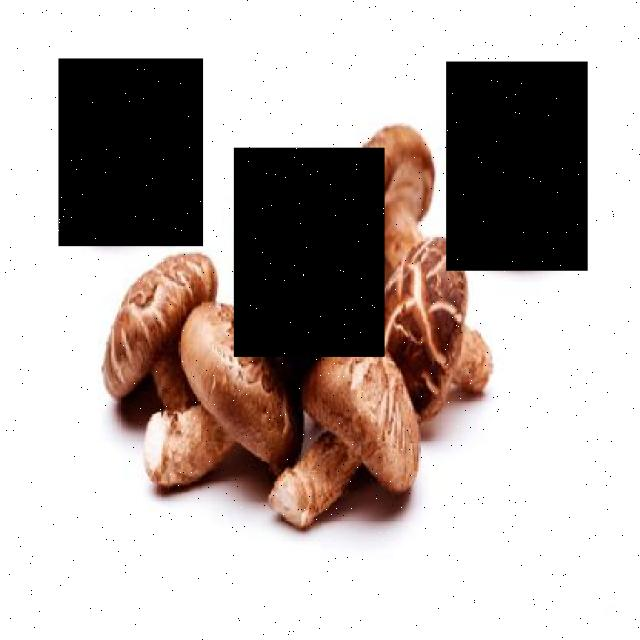Mushroom: (233, 148, 384, 357), (447, 62, 588, 272), (59, 59, 203, 246)
